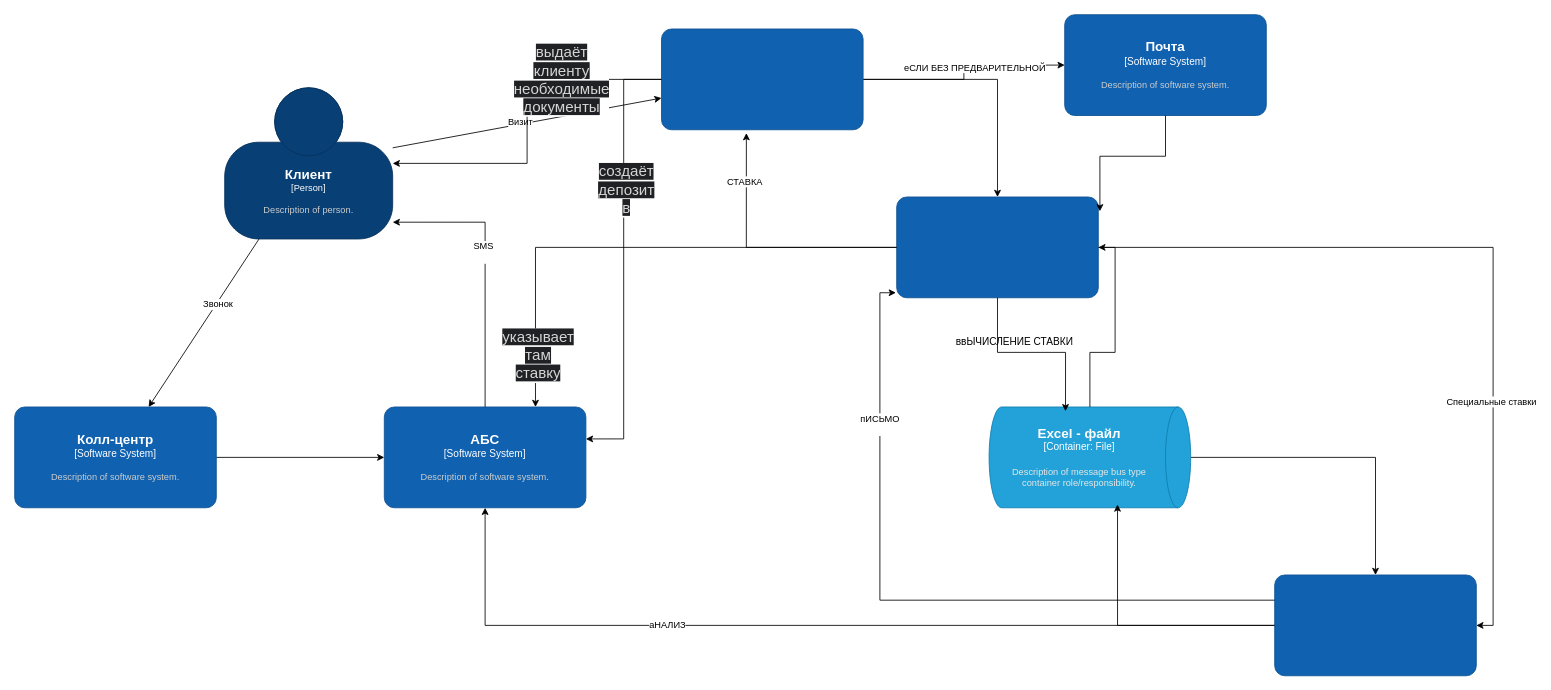
The diagram is 1551 pixels wide and 690 high, and some of its shapes have lost their labels. The shapes that lost their labels are listed below. From the top down, each one's box as (x1, y1, x2, y2) in pixels, then its label:
(661, 28, 863, 130): Фронт-офис [Software System] Description of software system.
(896, 196, 1098, 298): Бэк-офис [Software System] Description of software system.
(1274, 574, 1476, 676): Отдел кредитования [Software System] Description of software system.
